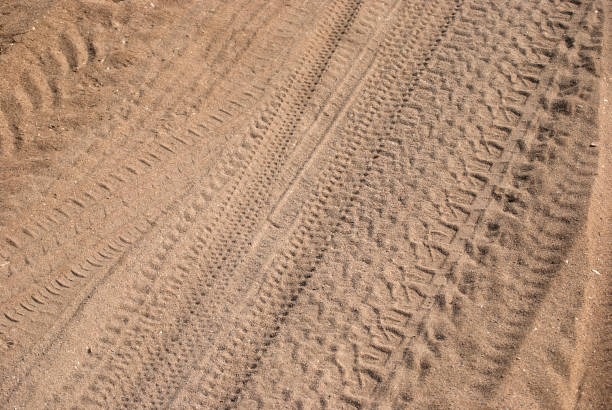vehicle_track: (0, 0, 603, 407), (243, 2, 600, 407), (0, 103, 235, 359), (232, 65, 320, 166)
